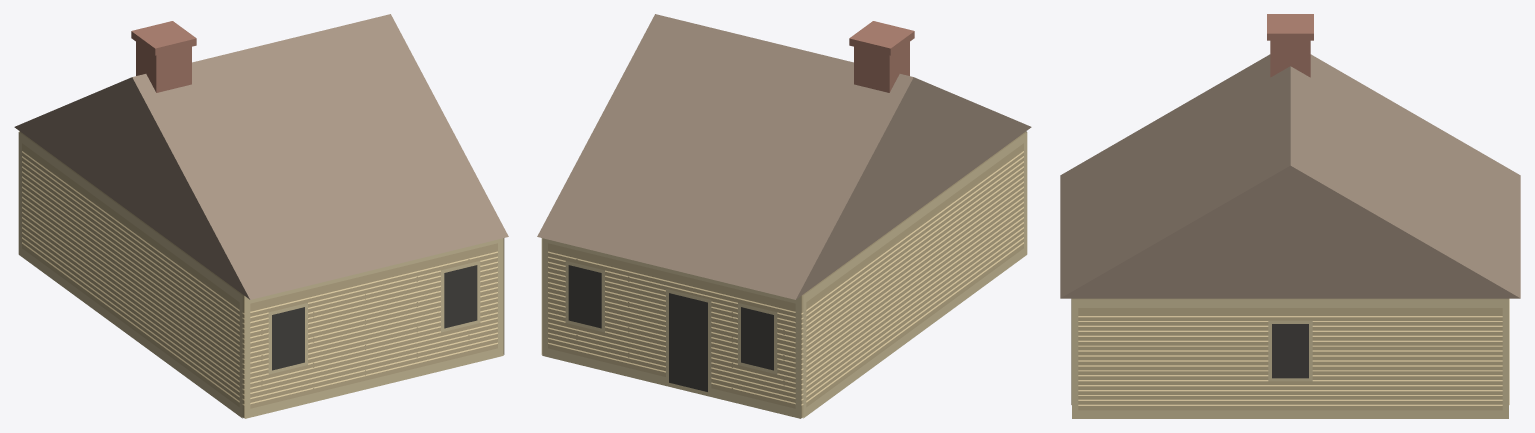
The model's file is recon_1835_west_004__inferred_1835.glb.
The picture shows the model from 3 angles, left to right: view 1: azimuth 30°, elevation 25°; view 2: azimuth 150°, elevation 25°; view 3: azimuth 270°, elevation 25°; orthographic projection. The views are drawn at different scales.
Parts seen in each view (by area): view 1: recon_1835_west_004__inferred_1835; view 2: recon_1835_west_004__inferred_1835; view 3: recon_1835_west_004__inferred_1835.
Part boxes in pixels (x1=…): recon_1835_west_004__inferred_1835: x1=14, y1=14, x2=508, y2=418; recon_1835_west_004__inferred_1835: x1=537, y1=14, x2=1031, y2=418; recon_1835_west_004__inferred_1835: x1=1060, y1=14, x2=1520, y2=418.
Bounding box in the file's own units: 6.18 × 6.62 × 9.64.
